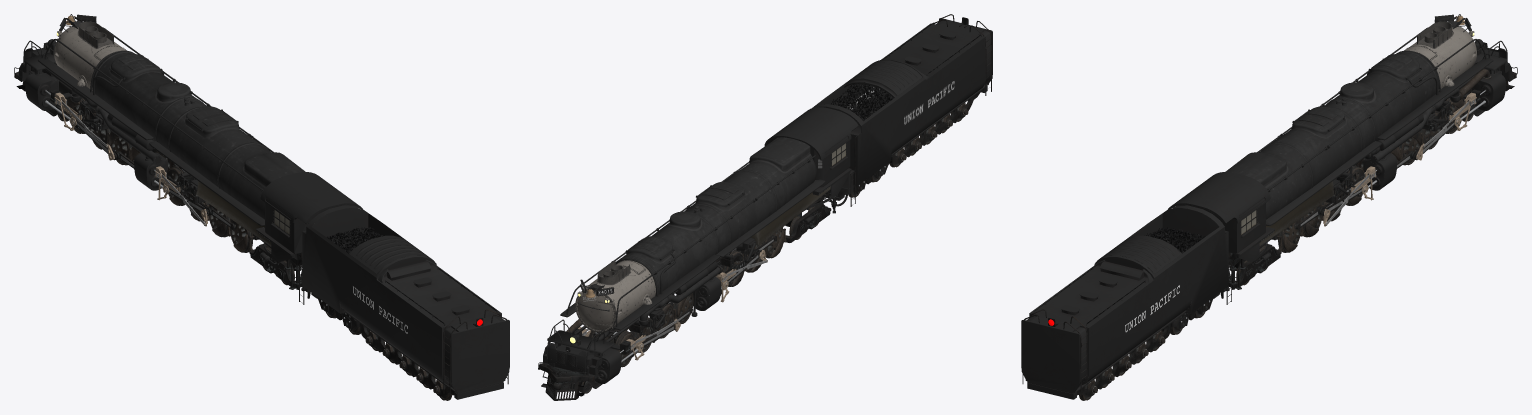
Rendered from prototype.glb.
The picture shows the model from 3 angles, left to right: view 1: azimuth 30°, elevation 25°; view 2: azimuth 150°, elevation 25°; view 3: azimuth 330°, elevation 25°; orthographic projection. The views are drawn at different scales.
Visible parts, largest first — view 1: engine_rear, tender_body, engine_front, trailing_truck, tender_rear_bogie, tender_front_bogie; view 2: engine_rear, tender_body, engine_front, trailing_truck, tender_rear_bogie; view 3: engine_rear, tender_body, engine_front, trailing_truck, tender_rear_bogie, tender_front_bogie.
Part boxes in pixels (x1,y1,x2,y2): engine_rear: [38, 14, 362, 298]; tender_body: [299, 205, 509, 399]; engine_front: [14, 39, 170, 169]; trailing_truck: [249, 244, 302, 288]; tender_rear_bogie: [365, 330, 452, 400]; tender_front_bogie: [317, 297, 368, 334]; engine_rear: [560, 107, 858, 352]; tender_body: [812, 14, 992, 206]; engine_front: [538, 290, 697, 400]; trailing_truck: [785, 196, 831, 242]; tender_rear_bogie: [889, 103, 968, 167]; engine_rear: [1168, 14, 1493, 298]; tender_body: [1021, 205, 1231, 399]; engine_front: [1360, 39, 1517, 169]; trailing_truck: [1228, 243, 1281, 288]; tender_rear_bogie: [1079, 330, 1165, 400]; tender_front_bogie: [1162, 297, 1214, 334].
Size of the model in its own units: 22.06 by 31.39 by 253.
7 materials, 7 textured.
